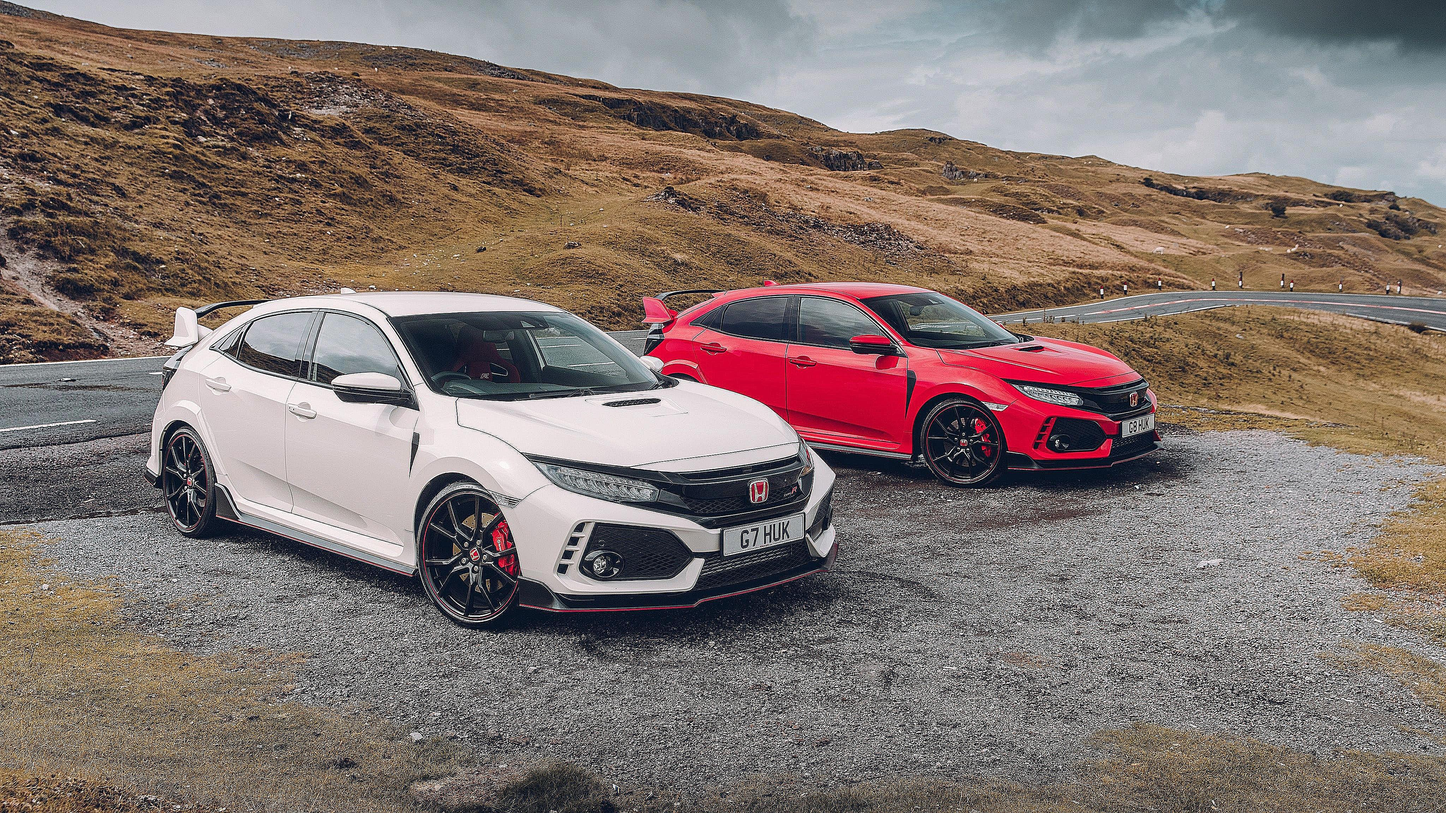Car hood: (454, 377, 805, 475), (999, 394, 1168, 476), (931, 332, 1150, 391)
Driver-s door - -F-R-: (287, 303, 407, 557), (787, 292, 905, 445)
Fender - -F-R-: (408, 381, 554, 567), (896, 337, 1025, 455)
Fender - -R-L-: (648, 317, 711, 388)
Fender - -R-R-: (161, 353, 228, 492)
Front bumper: (513, 486, 847, 623)
Headlight - -L-: (794, 431, 819, 480)
Headlight - -R-: (516, 449, 665, 506), (998, 377, 1086, 408)
Passenger-s door - -R-R-: (199, 303, 286, 517), (691, 293, 786, 425)
Rear bumper: (140, 399, 171, 493)
Rear light - -R-: (157, 341, 194, 396)
Side bumper - -L-: (636, 350, 667, 378)
Side bumper - -R-: (207, 470, 421, 580), (791, 427, 923, 463)
Side mirror - -R-: (324, 370, 408, 408), (848, 332, 901, 358)
